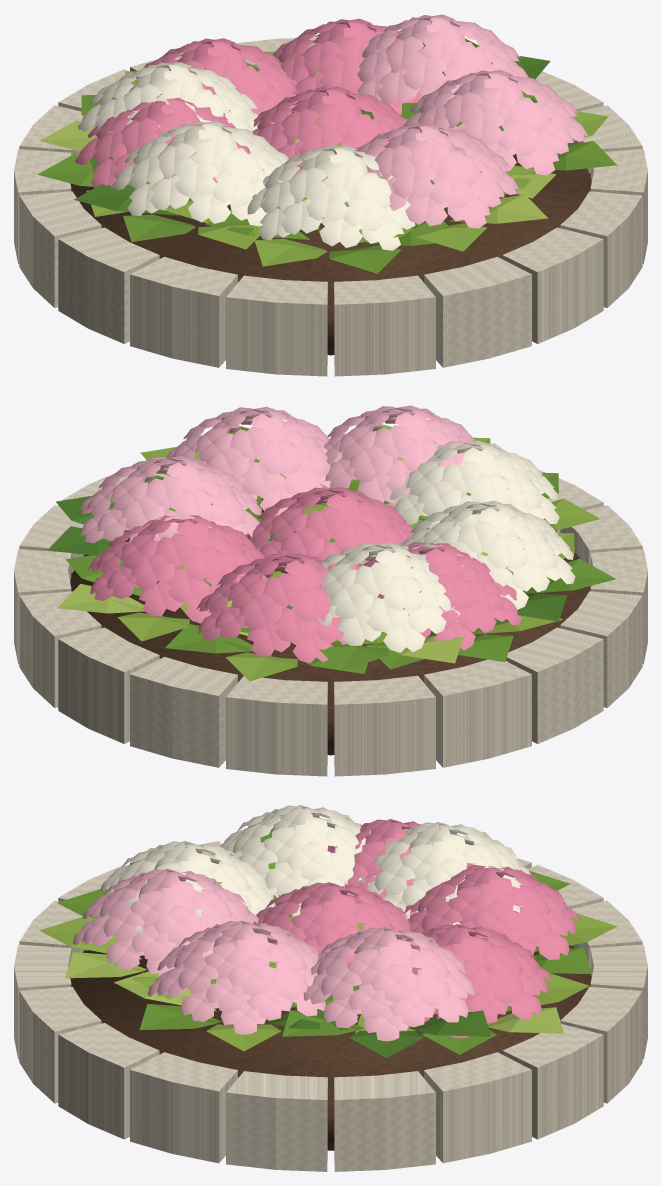
File: flowerbed.glb
3 views of the same model, one above another, from view 1: azimuth 30°, elevation 25°; view 2: azimuth 150°, elevation 25°; view 3: azimuth 270°, elevation 25° (orthographic).
Parts seen in each view (by area): view 1: flowerbed; view 2: flowerbed; view 3: flowerbed.
Part boxes in pixels (bbox=[...]): flowerbed: bbox=[14, 14, 647, 376]; flowerbed: bbox=[14, 405, 647, 776]; flowerbed: bbox=[14, 805, 647, 1171].
Bounding box in the file's own units: 1.76 × 0.52 × 1.76.
Materials: 9 (2 with a texture image).
